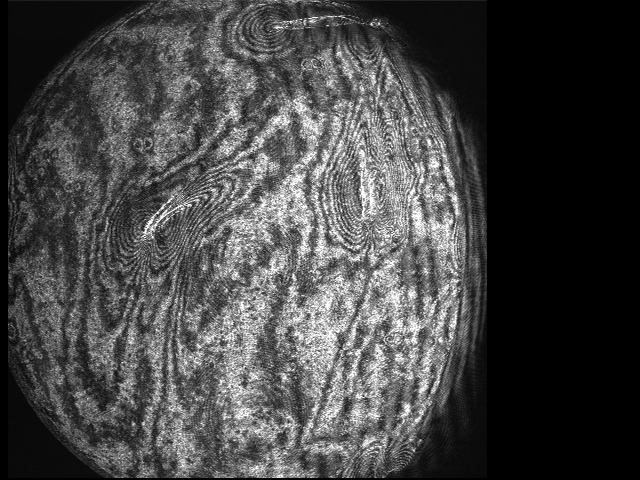plume: (104, 172, 238, 272)
